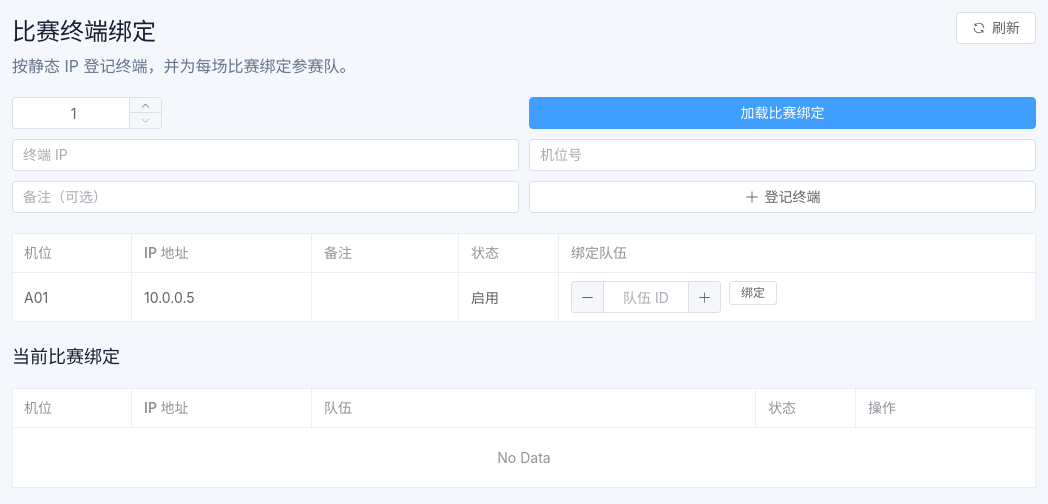
Test case: AdminCompetitionView › loads the contest bindings from the toolbar
Click the button "加载比赛绑定" at (782, 113), box top-left (529, 97), bottom-right (1036, 129)
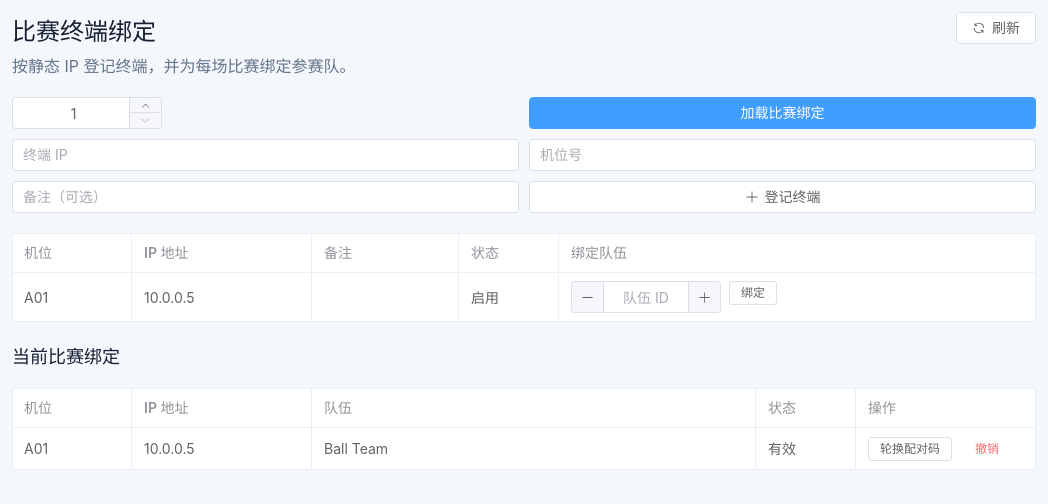
Now the text "Ball Team" is shown, box top-left (324, 440), bottom-right (388, 457)
